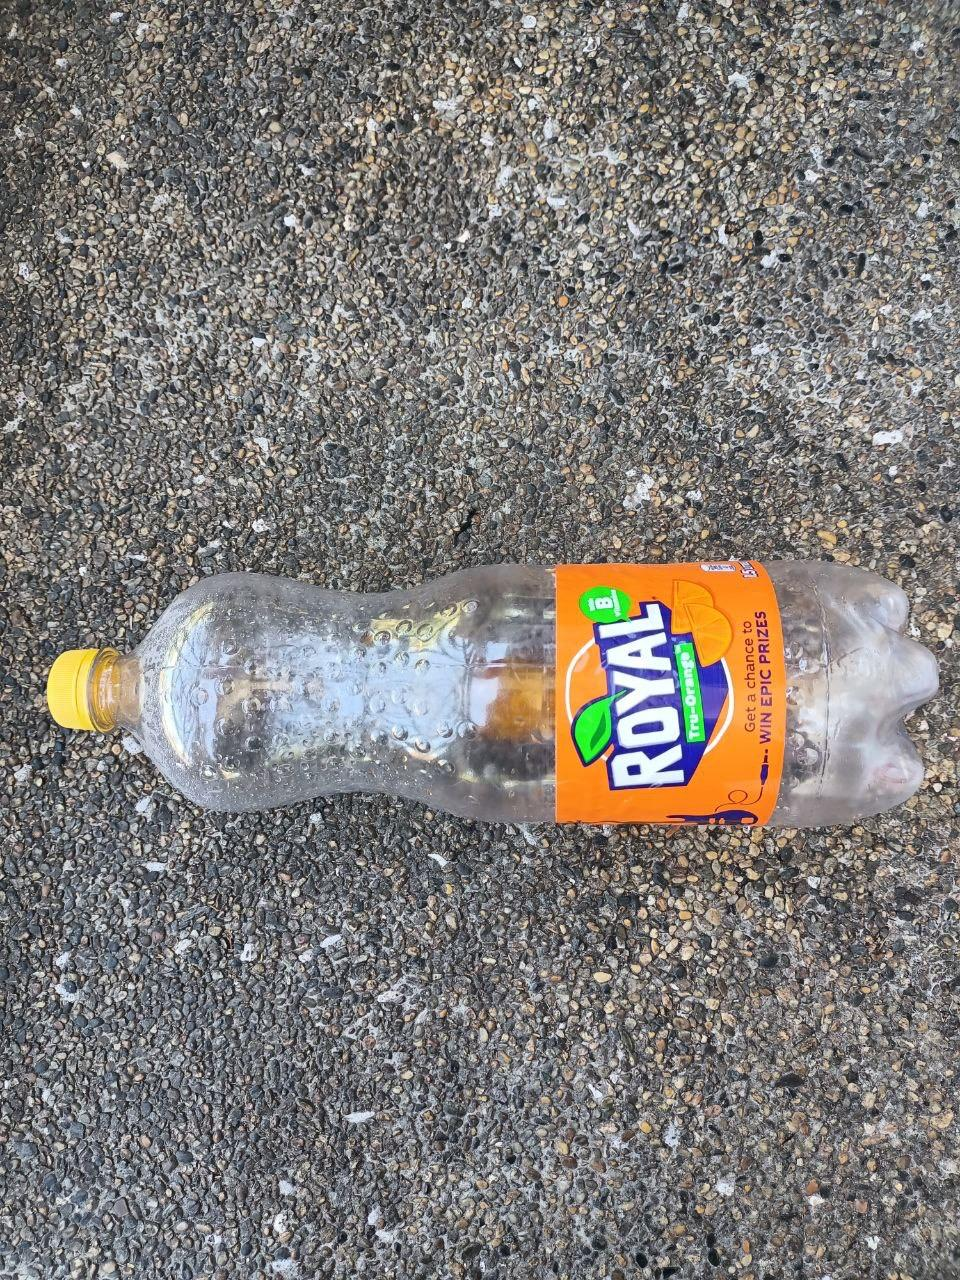plastic: (21, 562, 942, 895)
